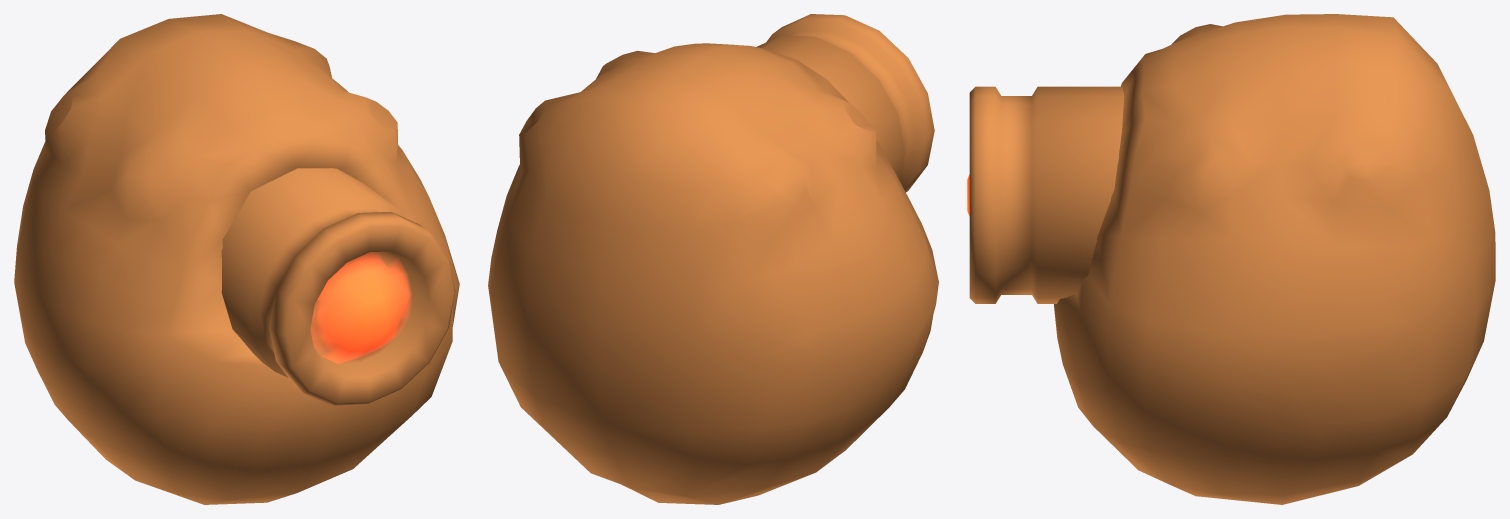
Rendered from bruiser_p3.fbx.
3 renders of one model, left to right at view 1: azimuth 30°, elevation 25°; view 2: azimuth 150°, elevation 25°; view 3: azimuth 270°, elevation 25°, orthographic. The views are drawn at different scales.
Visible parts, largest first — view 1: Body.006; view 2: Body.006; view 3: Body.006.
Boxes of the visible parts, box(x1,y1,x2,y2) form: Body.006: box(14, 14, 459, 504); Body.006: box(488, 14, 938, 504); Body.006: box(967, 14, 1495, 504).
Size of the model in its own units: 53.76 by 57.49 by 59.8.
